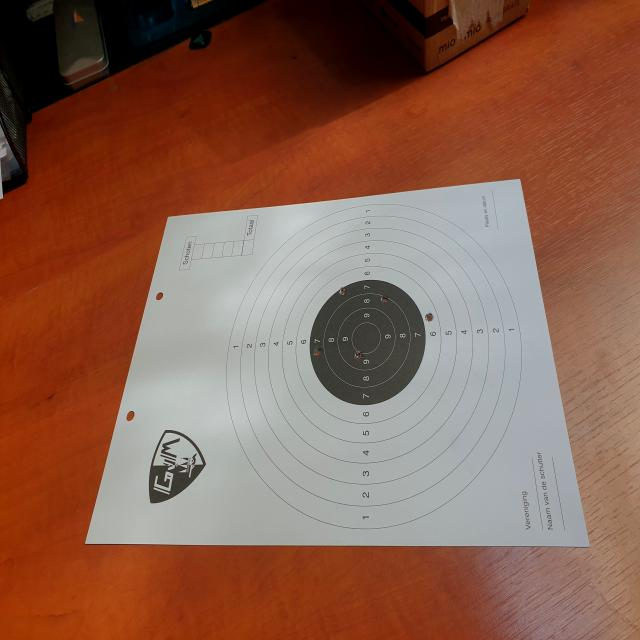10: (353, 349, 364, 362)
6: (424, 312, 434, 323)
7: (313, 345, 324, 357), (338, 286, 347, 296)
8: (380, 293, 391, 304)
Target: (225, 202, 523, 530)
black_contour: (310, 279, 425, 405)
